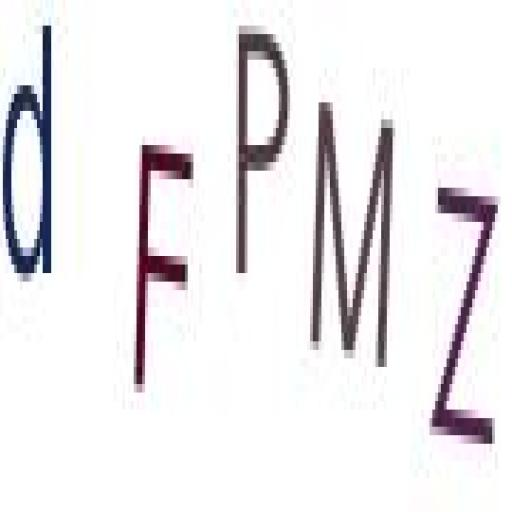F: (133, 128, 195, 408)
M: (305, 84, 397, 382)
P: (231, 26, 291, 271)
Z: (427, 158, 502, 462)
d: (1, 14, 60, 294)
